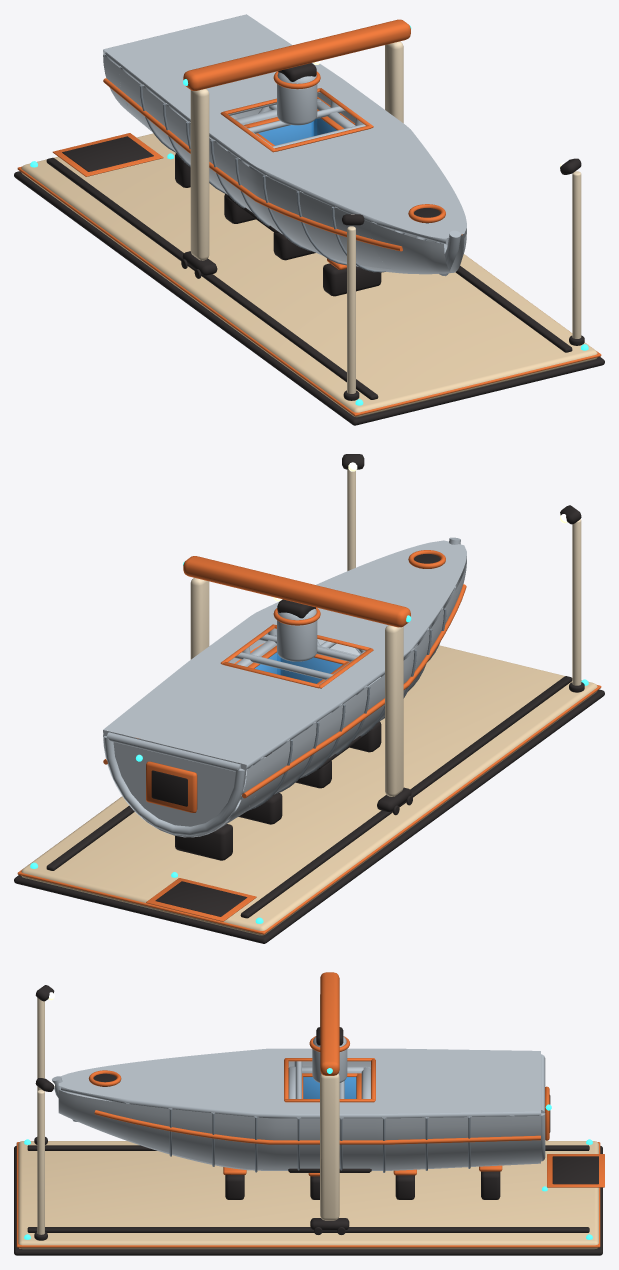
The model's file is reactor-1.glb.
The picture shows the model from 3 angles, top to bottom: view 1: azimuth 30°, elevation 25°; view 2: azimuth 150°, elevation 25°; view 3: azimuth 270°, elevation 25°; orthographic projection. The views are drawn at different scales.
Parts seen in each view (by area): view 1: Cube.001, skin, Cube, Cube.002, Cube.036, Cube.023, pipe.030, Cube.027; view 2: Cube.001, skin, Cube, Cube.002, Cube.023, Cube.036, pipe.030, Cube.027; view 3: Cube.001, skin, Cube, Cube.002, Cube.023, Cube.036, pipe.030, Cube.027.
Boxes of the visible parts, x1,y1,x2,y2 form: Cube.001: [21, 133, 597, 417]; skin: [103, 14, 466, 274]; Cube: [14, 63, 604, 425]; Cube.002: [17, 19, 601, 416]; Cube.036: [190, 41, 581, 393]; Cube.023: [104, 52, 460, 276]; pipe.030: [139, 85, 427, 272]; Cube.027: [258, 118, 336, 145]; Cube.001: [21, 645, 597, 935]; skin: [103, 540, 466, 837]; Cube: [14, 454, 604, 943]; Cube.002: [17, 550, 601, 934]; Cube.023: [104, 537, 460, 835]; Cube.036: [190, 469, 581, 796]; pipe.030: [234, 608, 446, 810]; Cube.027: [254, 652, 342, 683]; Cube.001: [18, 1141, 598, 1249]; skin: [58, 1048, 540, 1170]; Cube: [14, 985, 602, 1255]; Cube.002: [16, 972, 604, 1247]; Cube.023: [52, 1036, 545, 1161]; Cube.036: [37, 994, 339, 1234]; pipe.030: [169, 1108, 470, 1172]; Cube.027: [303, 1077, 356, 1098].
Bounding box in the file's own units: 1.3 × 1.06 × 3.05.
